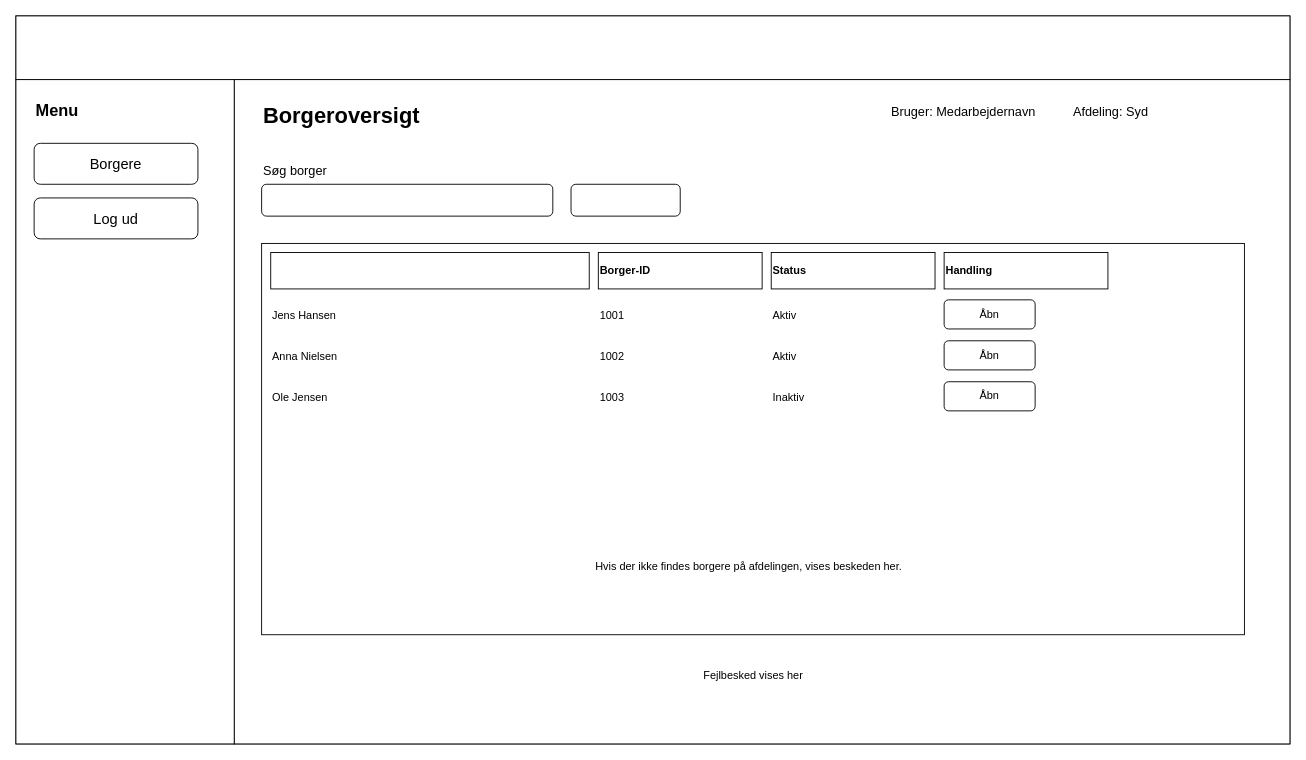
The diagram is 1306 pixels wide and 760 high, and some of its shapes have lost their labels. The centre of each missing label's shape, as x and y in pixels:
"Navn" belongs at (429,270).
"Opdater" belongs at (625,199).
"VIGOR" belongs at (652,47).
